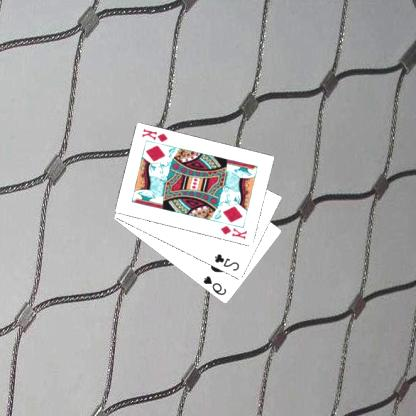2C: (214, 251, 243, 273)
6S: (202, 274, 230, 298)
KD: (219, 223, 251, 241), (141, 126, 171, 144)
